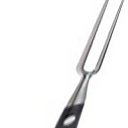Fork: (49, 1, 118, 128)
